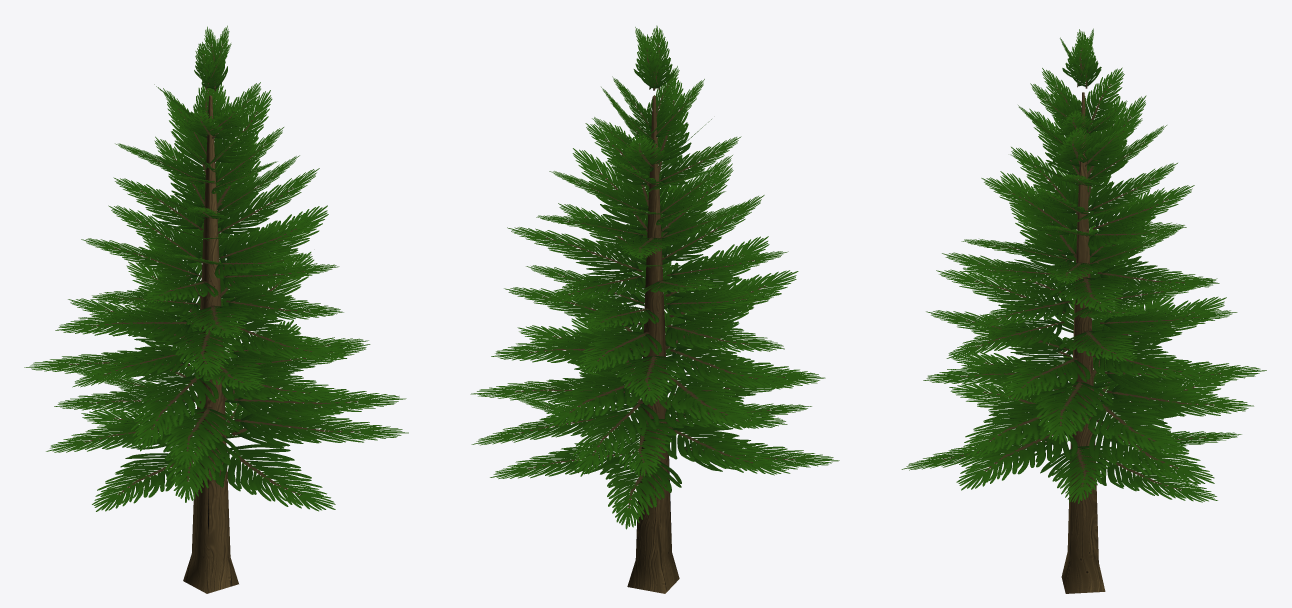
Rendered from tree.fbx.
The picture shows the model from 3 angles, left to right: view 1: azimuth 30°, elevation 25°; view 2: azimuth 150°, elevation 25°; view 3: azimuth 270°, elevation 25°; orthographic projection.
Visible parts, largest first — view 1: Tree01_LOD2; view 2: Tree01_LOD2; view 3: Tree01_LOD2.
Part boxes in pixels (x1,y1,x2,y2): Tree01_LOD2: (24, 25, 408, 593); Tree01_LOD2: (470, 25, 839, 593); Tree01_LOD2: (901, 28, 1266, 593).
Bounding box in the file's own units: 512 × 772 × 493.
Materials: 2 (2 with a texture image).
